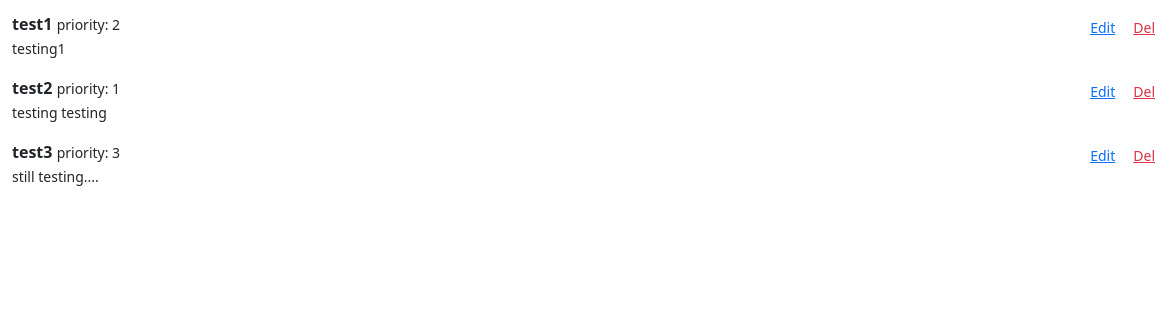
Test: EditableTodoList component › renders edit form on click
// click edit button
Click the button with class "EditableTodo-toggle" in the row of "testing1": point(1103, 28) x1=1081 y1=12 x2=1124 y2=43
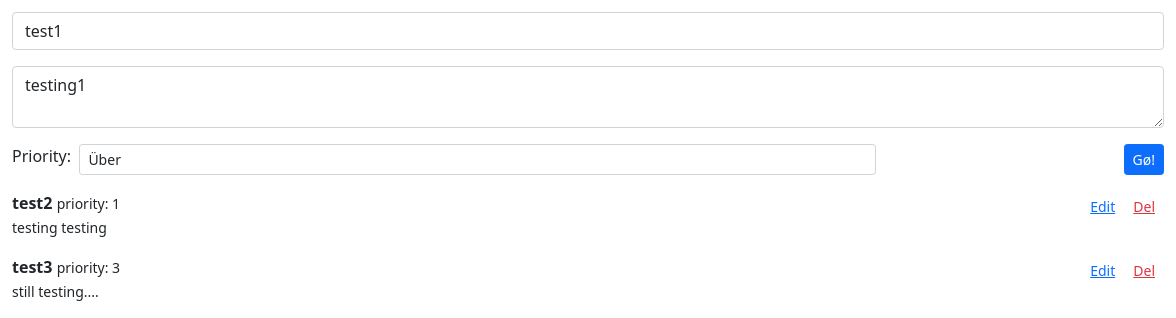
Check: the form with class "NewTodoForm" is shown, box x1=12 y1=12 x2=1164 y2=175
